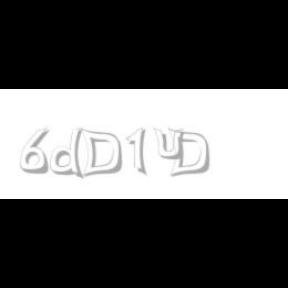1: (125, 128, 147, 176)
6: (20, 128, 48, 176)
D: (166, 128, 210, 178), (79, 128, 122, 178)
d: (51, 128, 88, 180)
u: (154, 128, 188, 160)
